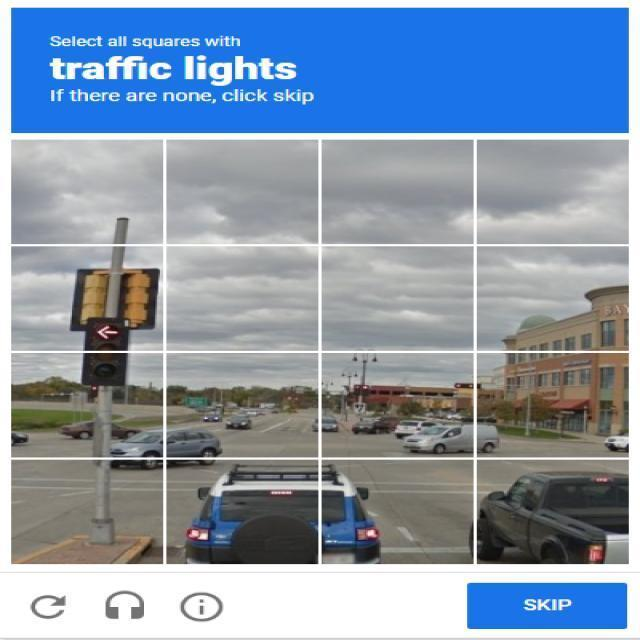red-traffic-lights: (89, 318, 128, 394)
